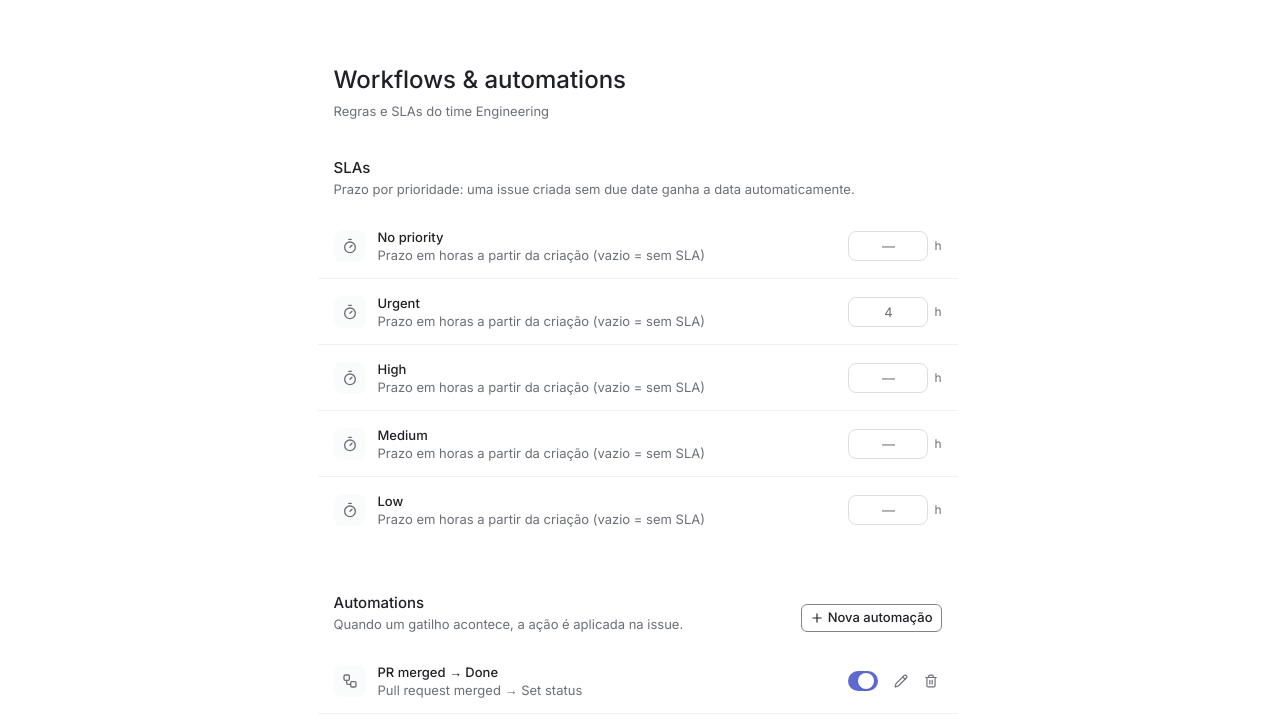
Test: Team settings → Workflows & automations (#97) › exclusão que falha devolve só a automação excluída, sem desfazer o toggle de outra
expect the text "PR merged → Done" is shown: met, box [378,664,498,680]
Step 1. Click the button named "Delete PR merged → Done" → point(930, 680), box [920,670,942,692]
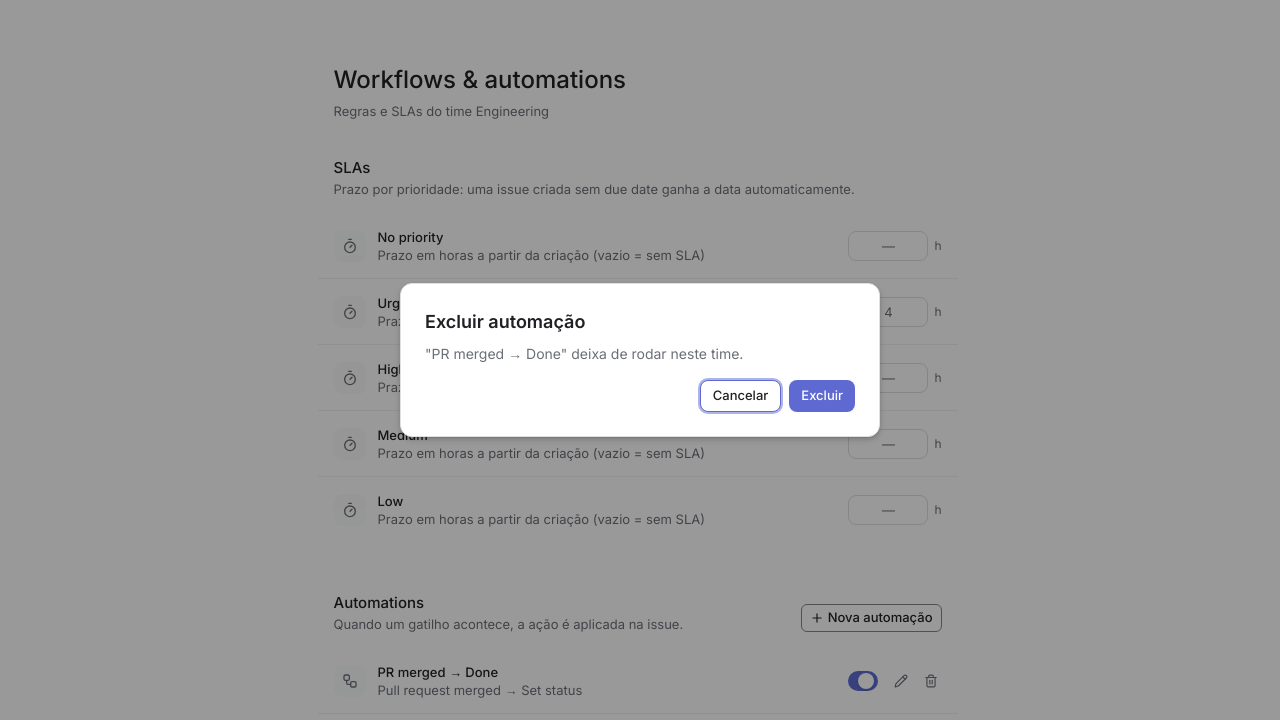
Step 2. Click the button "Excluir" → point(822, 396), box [789,380,855,412]
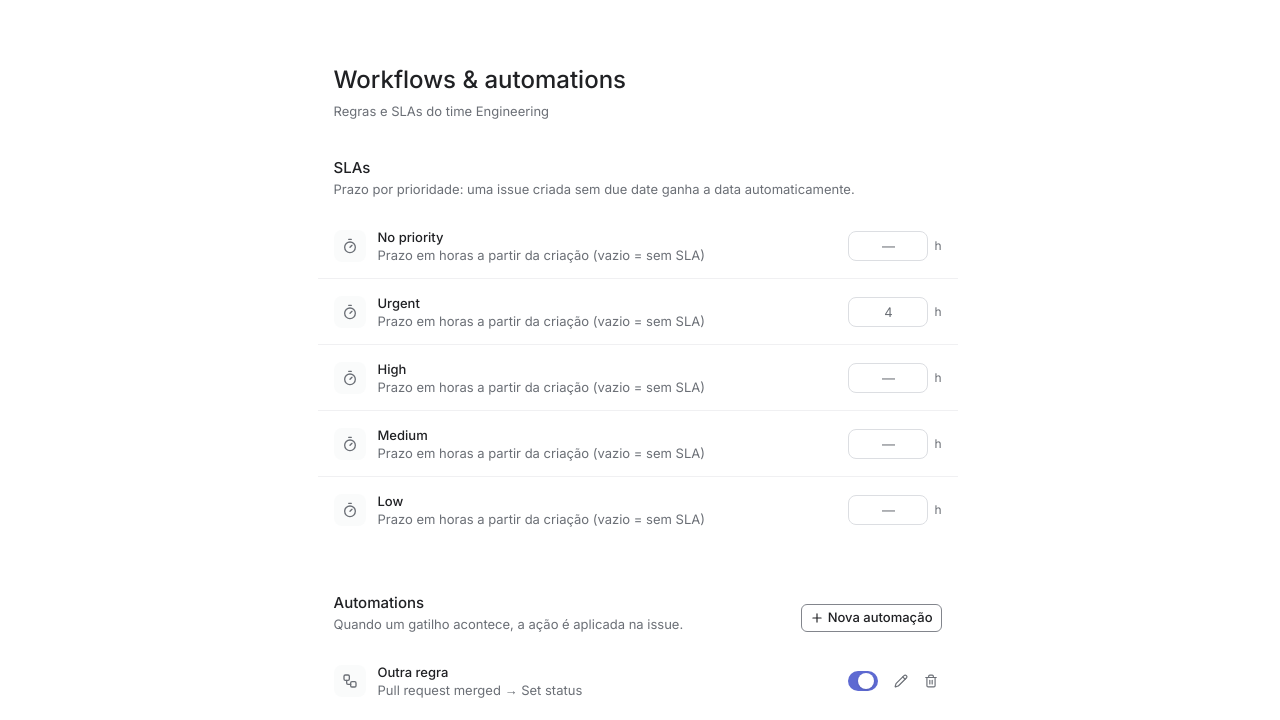
expect the text "PR merged → Done" is gone: met
Step 3. Click the switch named "Toggle Outra regra" → point(864, 681), box [846,671,882,691]
(page scrolled)
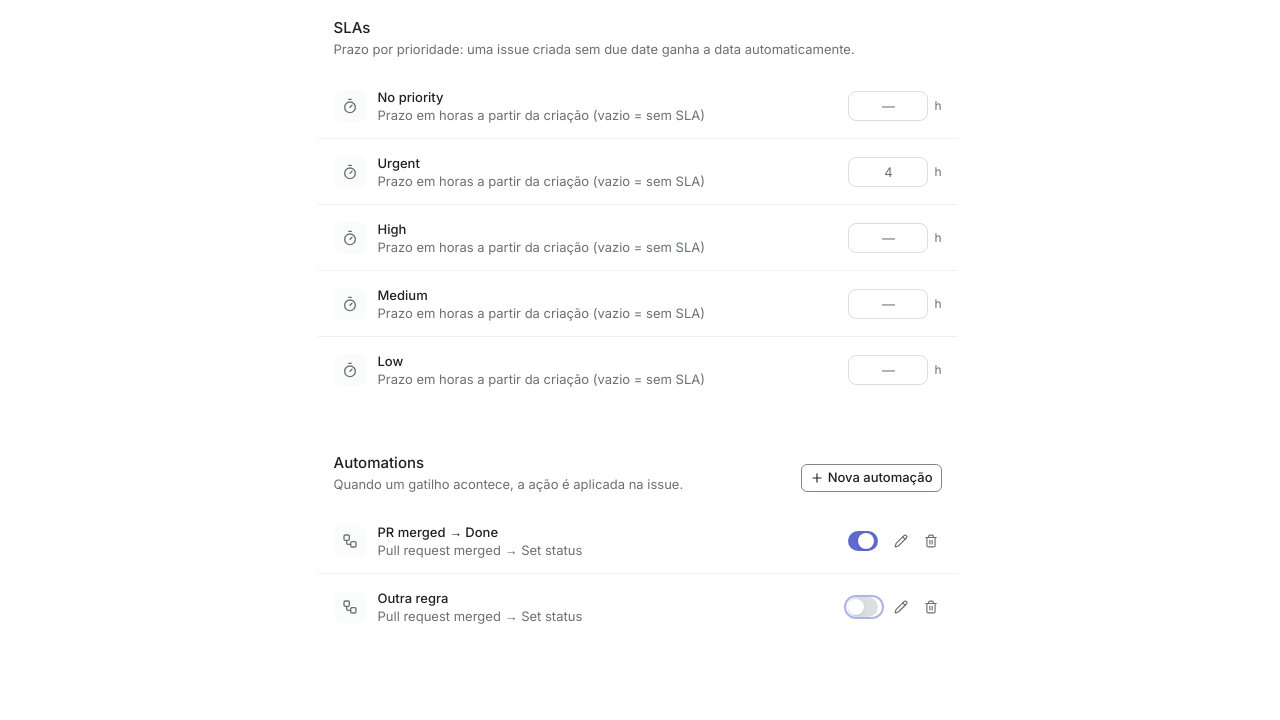
expect the text "PR merged → Done" is shown: met, box [378,524,498,540]
